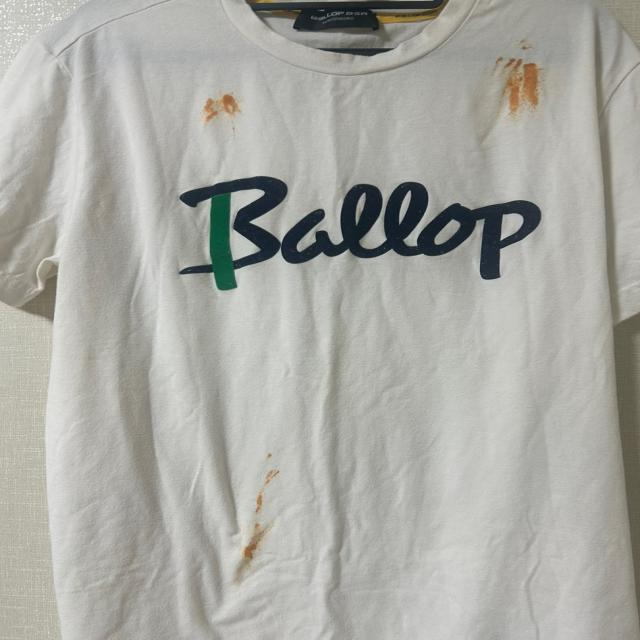stain: (488, 56, 550, 117), (247, 456, 284, 514), (191, 88, 251, 122), (240, 527, 274, 586), (517, 36, 544, 58)
